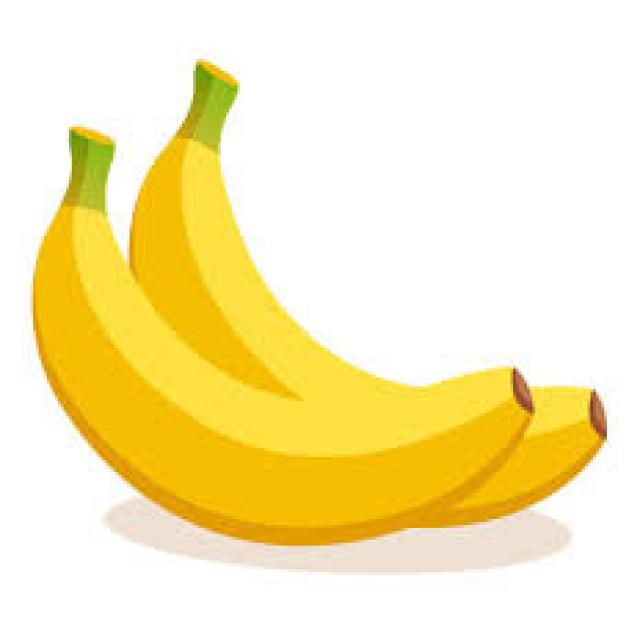banana: (30, 56, 607, 546)
